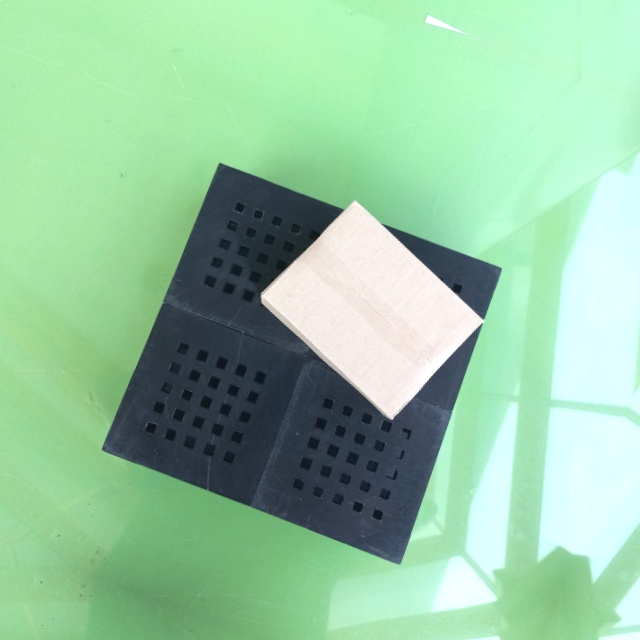box: (257, 197, 498, 424)
pallet: (101, 153, 508, 595)
